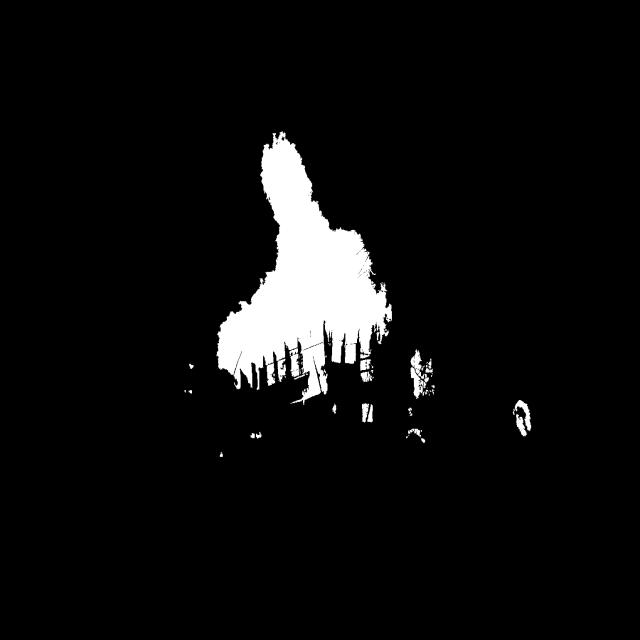fire: (198, 124, 512, 528)
